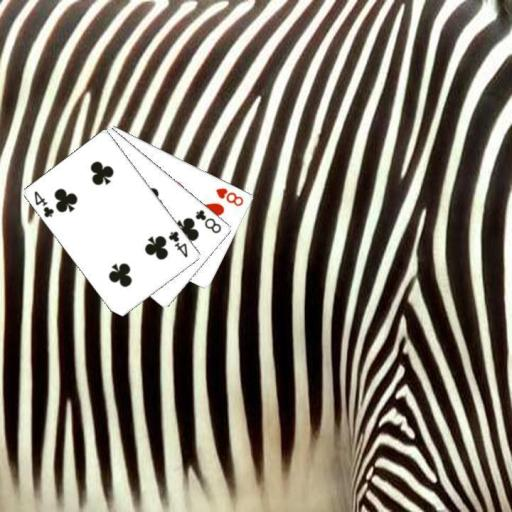card-corner: (192, 206, 223, 235), (166, 227, 190, 259), (32, 188, 56, 219), (213, 185, 245, 208)
